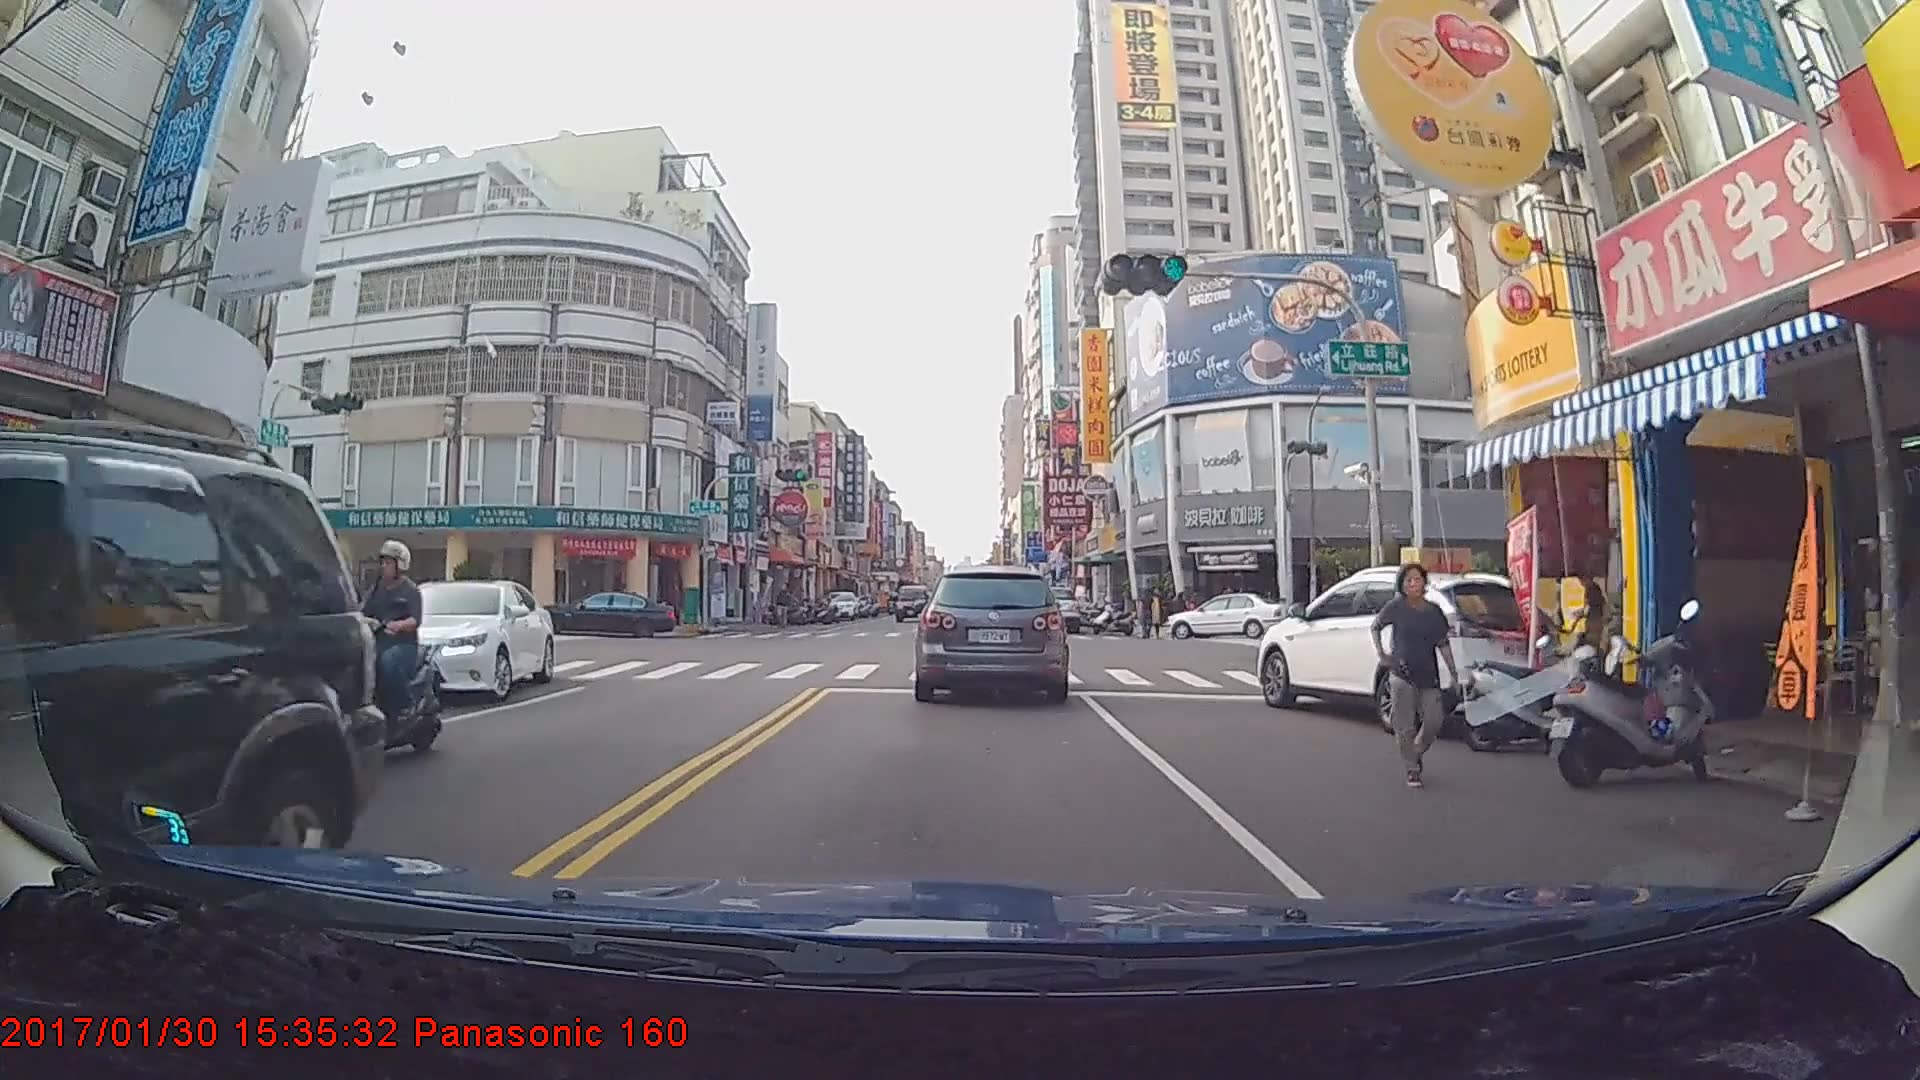pedestrian: (1377, 559, 1454, 785), (315, 560, 360, 688), (774, 583, 794, 629)
rider: (315, 532, 450, 762)
vehicle: (1, 429, 377, 1001), (1255, 562, 1565, 732), (353, 577, 554, 705), (915, 563, 1067, 701), (536, 586, 679, 637), (1162, 588, 1295, 637), (893, 583, 931, 620), (818, 589, 860, 618)
